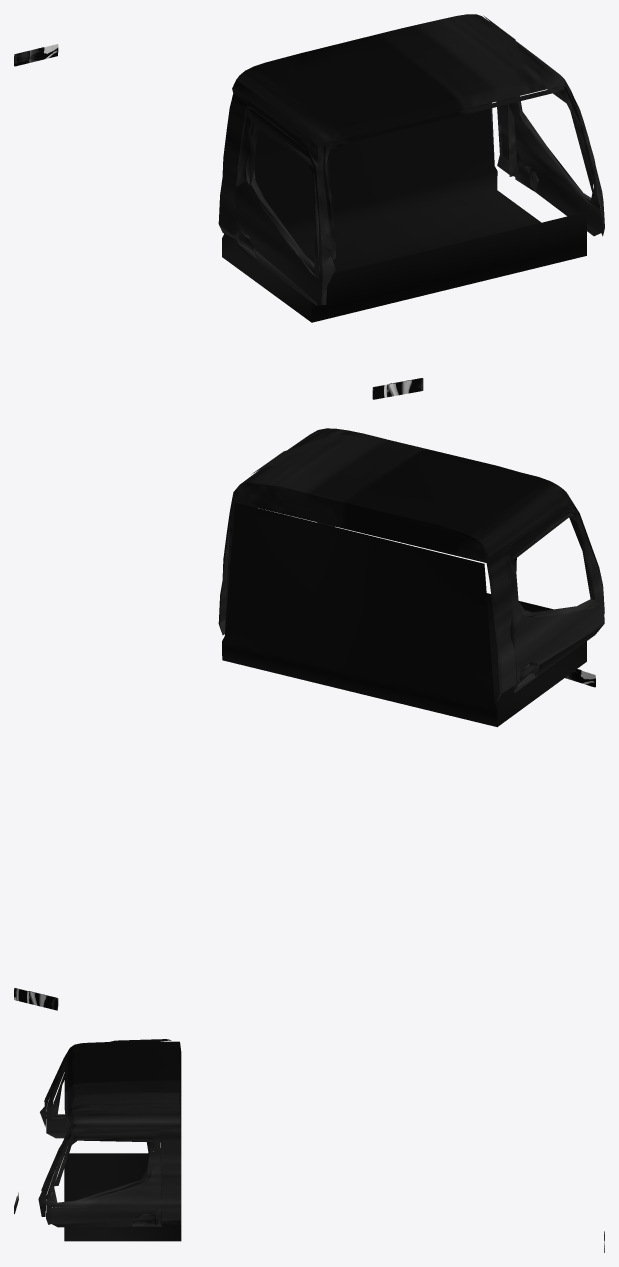
File: Isuzu_truck.fbx
The picture shows the model from 3 angles, top to bottom: view 1: azimuth 30°, elevation 25°; view 2: azimuth 150°, elevation 25°; view 3: azimuth 270°, elevation 25°; orthographic projection. The views are drawn at different scales.
Visible parts, largest first — view 1: Isuzu_Inside, Isuzu_Signs; view 2: Isuzu_Inside, Isuzu_Signs; view 3: Isuzu_Inside.
Boxes of the visible parts, <box> form: Isuzu_Inside: <box>218,14,604,322</box>; Isuzu_Signs: <box>14,44,423,399</box>; Isuzu_Inside: <box>218,428,604,727</box>; Isuzu_Signs: <box>14,669,595,1010</box>; Isuzu_Inside: <box>38,1039,181,1241</box>.
Size of what is drawn, in the model's own units: 2.13 by 5.87 by 1.87.
